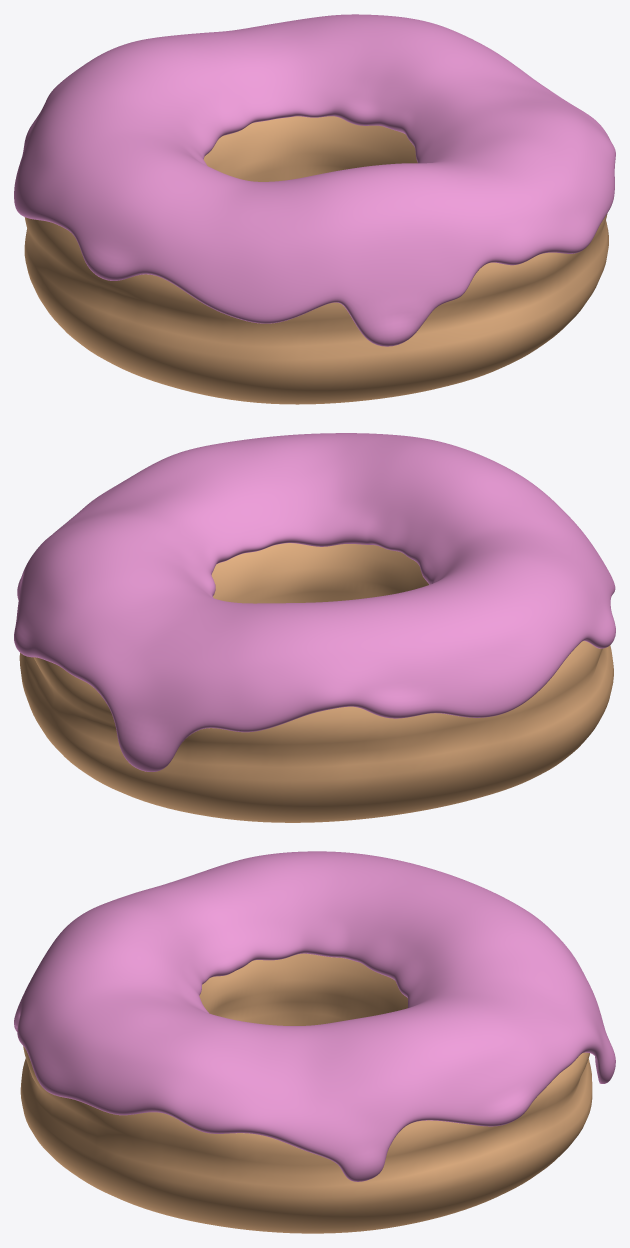
File: Donut.glb
3 renders of one model, top to bottom at view 1: azimuth 30°, elevation 25°; view 2: azimuth 150°, elevation 25°; view 3: azimuth 270°, elevation 25°, orthographic. The views are drawn at different scales.
Parts seen in each view (by area): view 1: Icing, Donut; view 2: Icing, Donut; view 3: Icing, Donut.
Part boxes in pixels (x1=…): Icing: x1=14, y1=14, x2=615, y2=346; Donut: x1=24, y1=116, x2=608, y2=404; Icing: x1=14, y1=433, x2=615, y2=771; Donut: x1=19, y1=543, x2=613, y2=822; Icing: x1=14, y1=851, x2=615, y2=1181; Donut: x1=20, y1=953, x2=592, y2=1233.
Size of what is drawn, in the model's own units: 0.1442 by 0.0553 by 0.1476.
